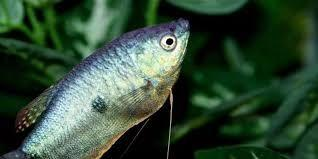Gourami: (1, 18, 190, 159)
